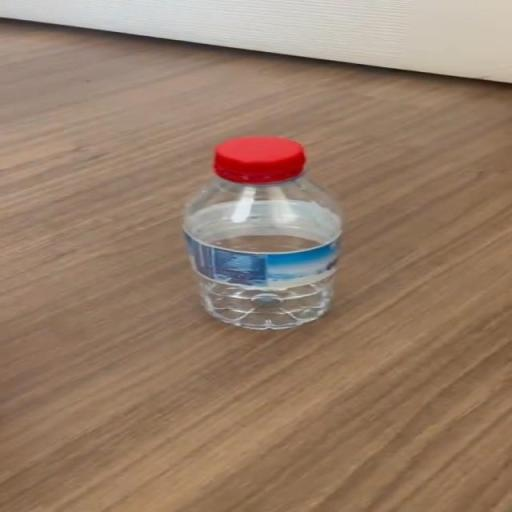plastic: (181, 136, 345, 333)
